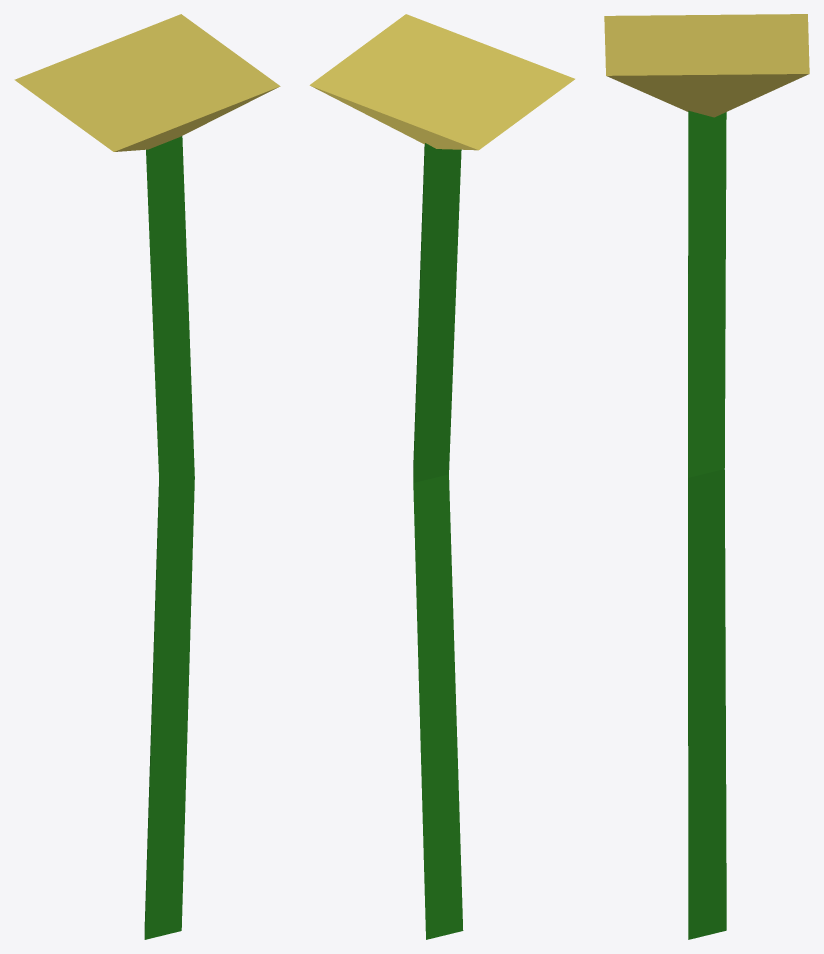
The model's file is Flower_dandelion_mat.fbx.
The picture shows the model from 3 angles, left to right: view 1: azimuth 30°, elevation 25°; view 2: azimuth 150°, elevation 25°; view 3: azimuth 270°, elevation 25°; orthographic projection. The views are drawn at different scales.
Visible parts, largest first — view 1: Flower_dandelion_mat; view 2: Flower_dandelion_mat; view 3: Flower_dandelion_mat.
Part boxes in pixels (bbox=[...]): Flower_dandelion_mat: bbox=[14, 14, 280, 939]; Flower_dandelion_mat: bbox=[309, 14, 574, 939]; Flower_dandelion_mat: bbox=[604, 14, 809, 939].
Bounding box in the file's own units: 0.1184 × 0.5743 × 0.1194.
